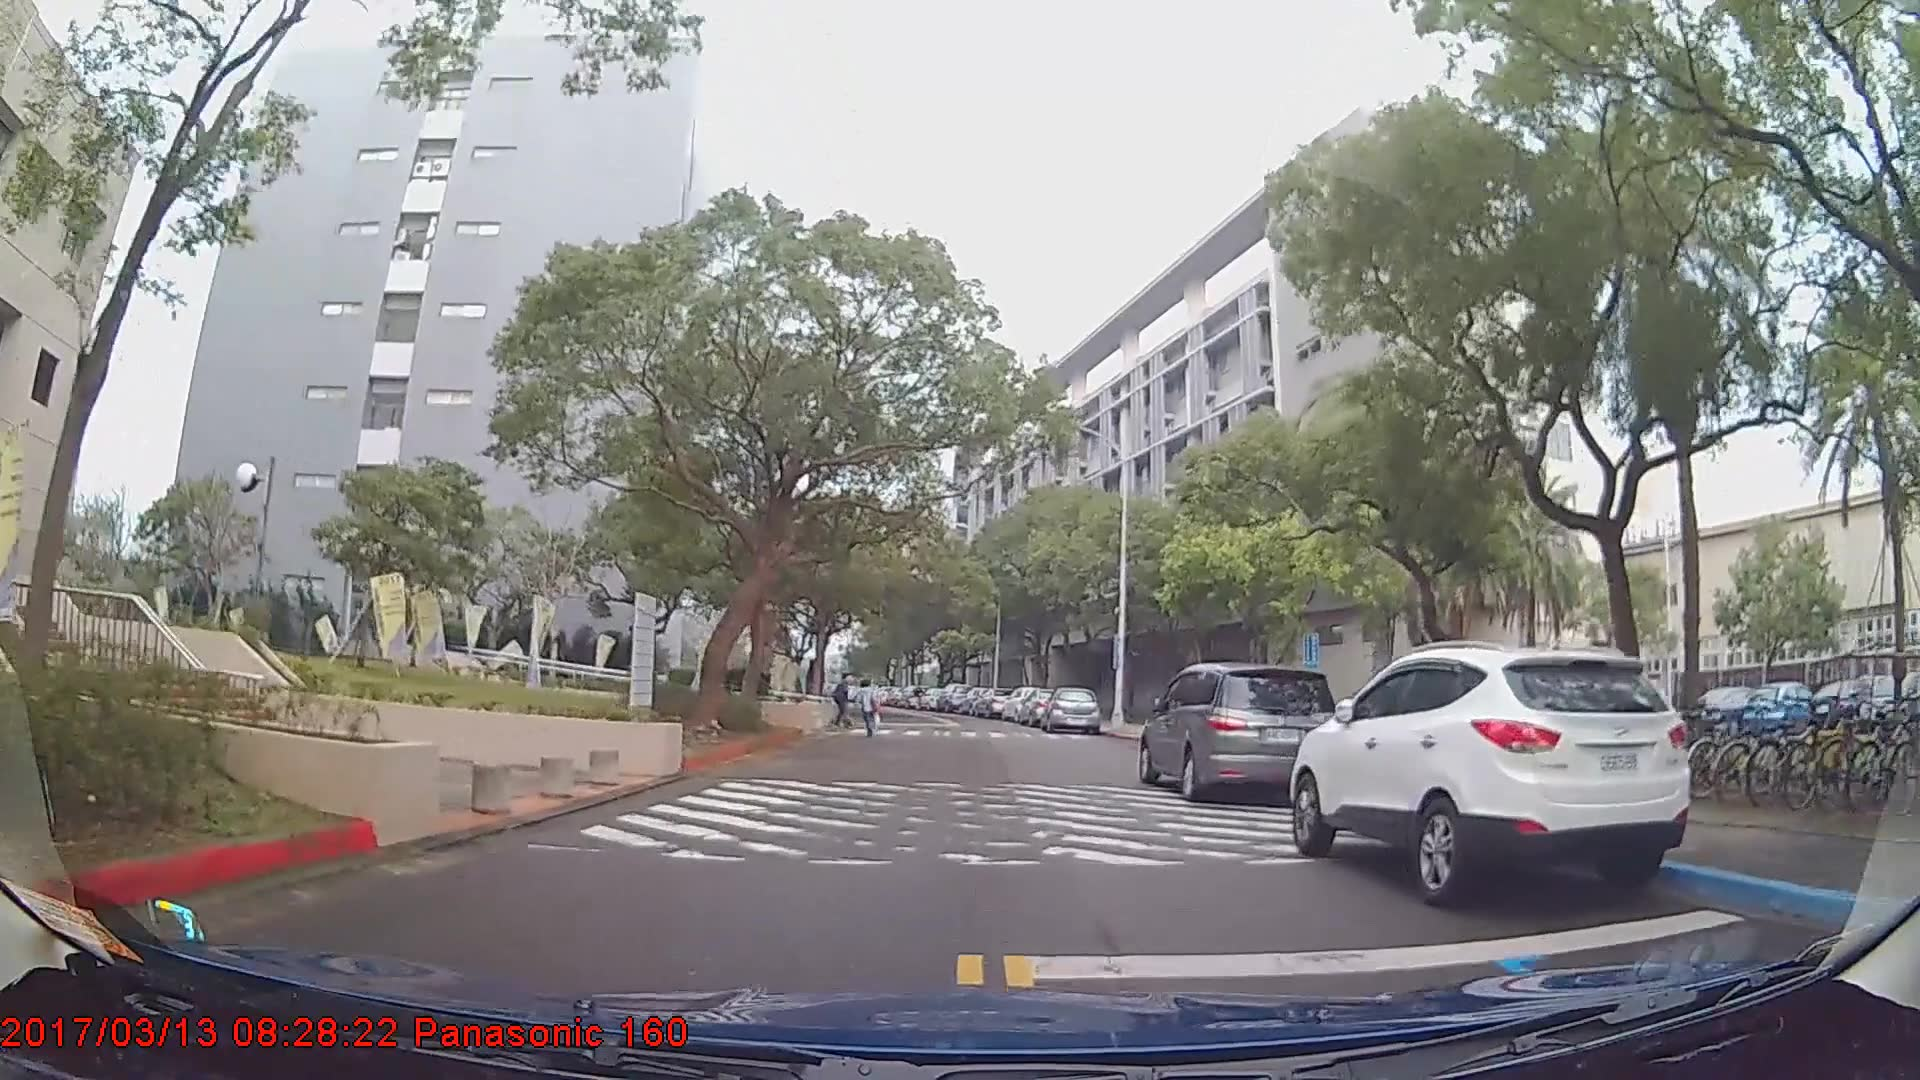pedestrian: (851, 681, 882, 741), (832, 672, 854, 728)
vehicle: (1283, 640, 1696, 907), (1138, 659, 1343, 805), (1690, 683, 1777, 741), (1803, 676, 1888, 735), (1742, 678, 1821, 736), (1044, 683, 1100, 735), (934, 681, 972, 712)
